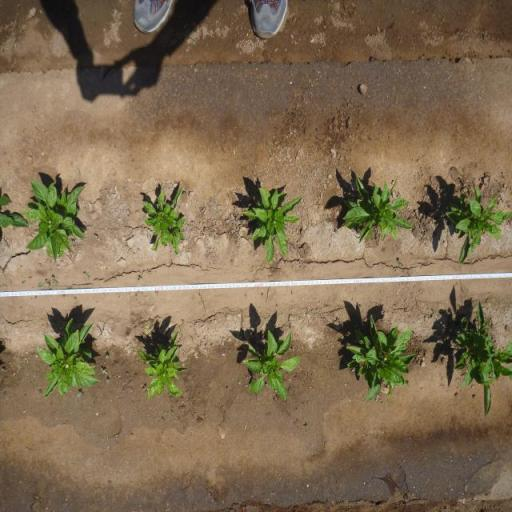plant: (445, 294, 512, 418), (346, 310, 419, 408), (441, 178, 512, 262), (242, 183, 305, 269), (341, 172, 414, 245), (26, 177, 87, 262), (240, 327, 302, 401), (39, 318, 101, 391), (138, 182, 190, 257), (137, 331, 190, 403)
weed: (37, 278, 50, 289), (50, 276, 60, 289), (101, 366, 108, 376), (398, 257, 404, 268), (84, 271, 90, 279), (77, 390, 83, 398), (272, 394, 278, 401), (20, 279, 26, 286), (137, 276, 142, 282), (105, 354, 109, 360), (142, 386, 146, 391)
